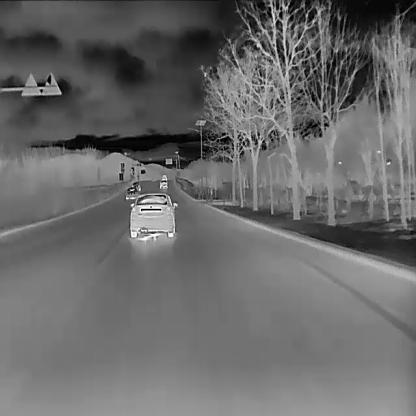car: (129, 191, 178, 237), (125, 186, 138, 200), (159, 179, 168, 189), (132, 181, 141, 190), (161, 173, 166, 180)
